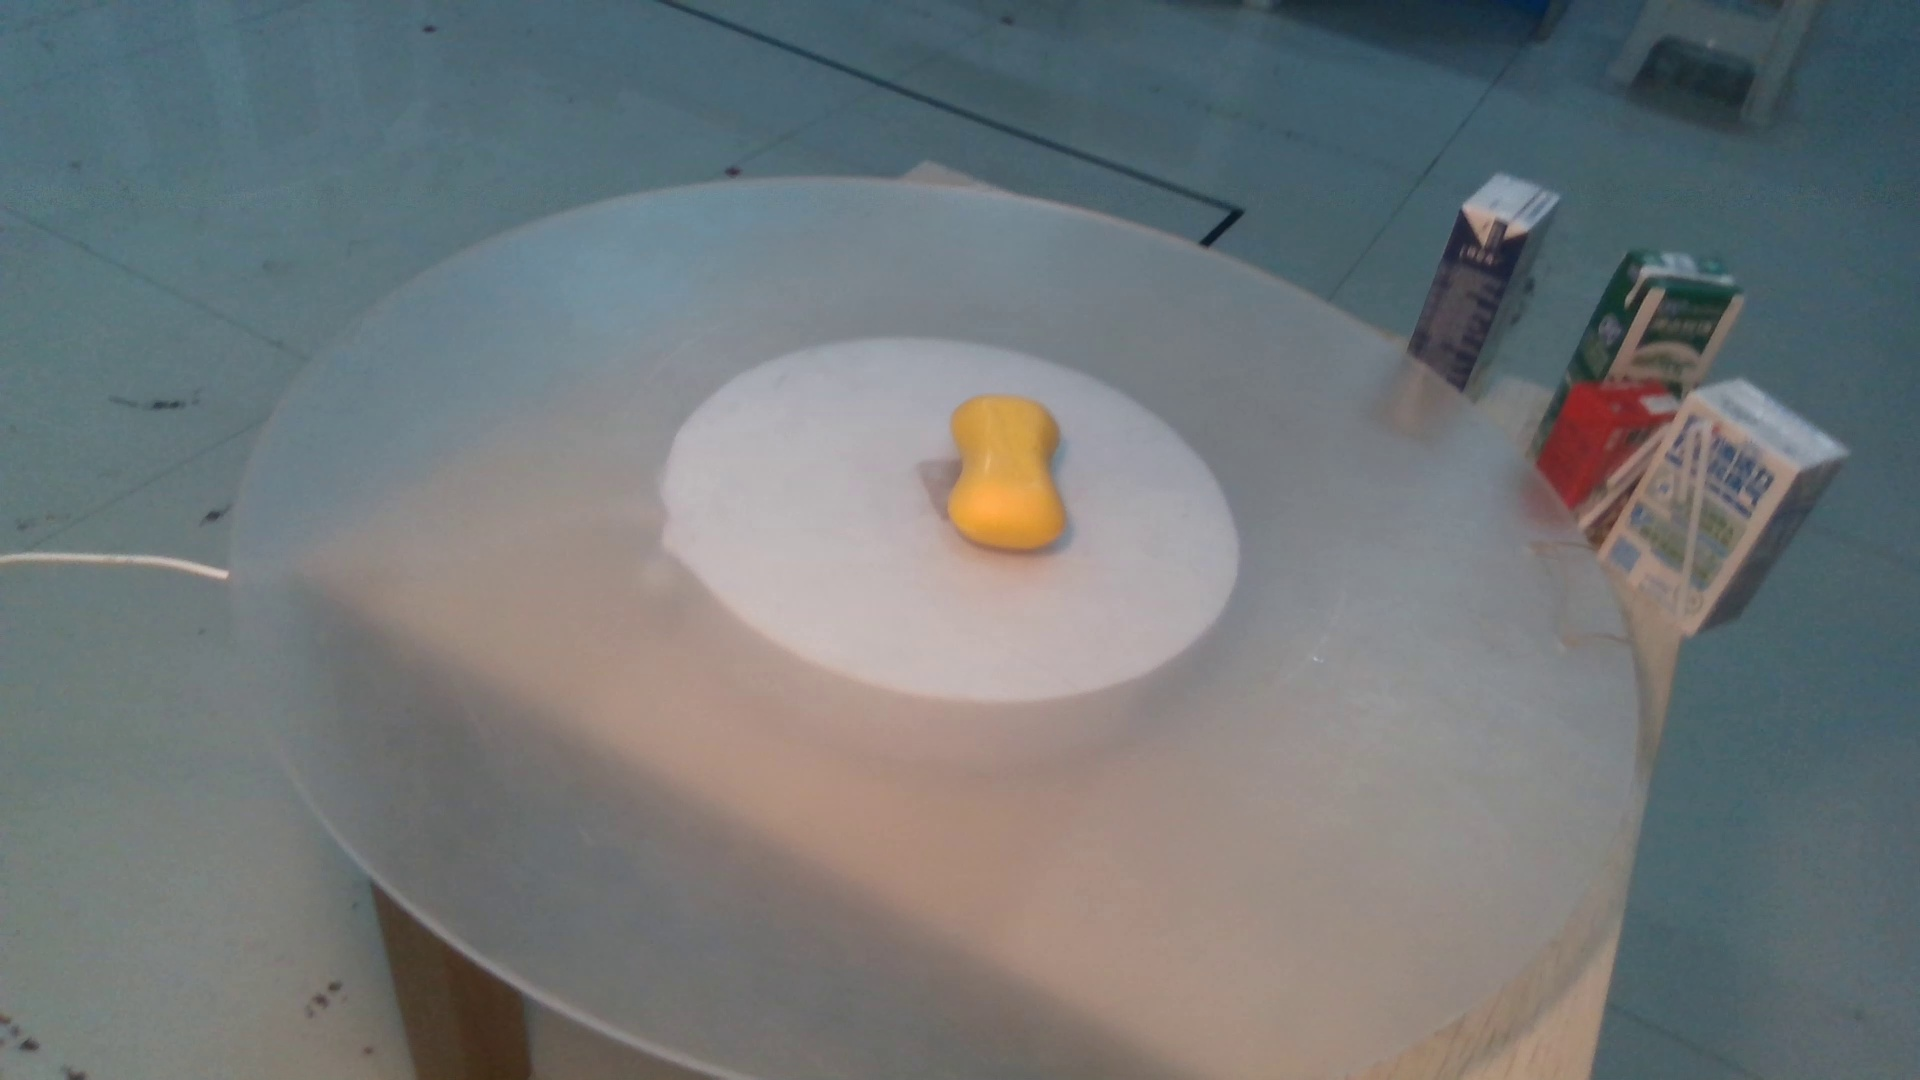CA003_1: (920, 377, 1080, 572)
